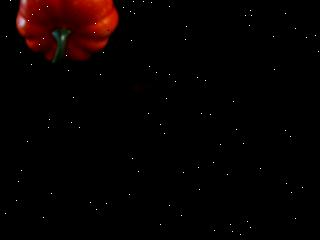Pumpkin: (15, 1, 122, 68)
